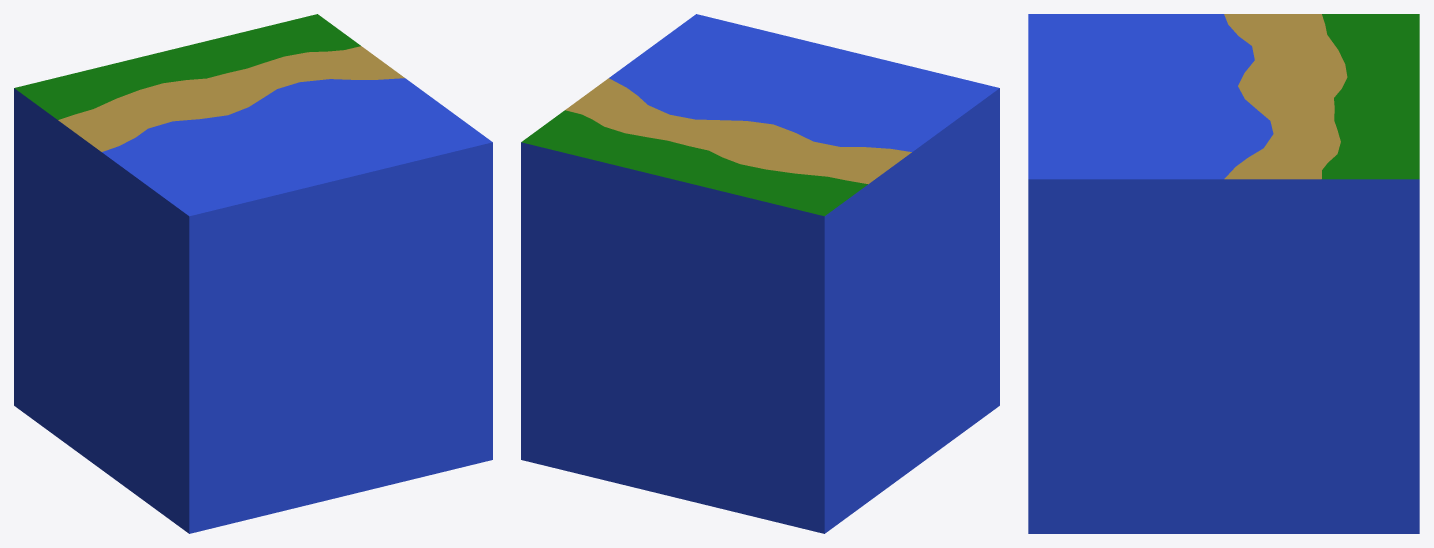
Rendered from CoastSide2.fbx.
The picture shows the model from 3 angles, left to right: view 1: azimuth 30°, elevation 25°; view 2: azimuth 150°, elevation 25°; view 3: azimuth 270°, elevation 25°; orthographic projection. The views are drawn at different scales.
Parts seen in each view (by area): view 1: Cube.019; view 2: Cube.019; view 3: Cube.019.
Part boxes in pixels (<box>): Cube.019: <box>14,14,492,533</box>; Cube.019: <box>521,14,999,533</box>; Cube.019: <box>1028,14,1419,533</box>.
Bounding box in the file's own units: 100 × 100 × 100.
